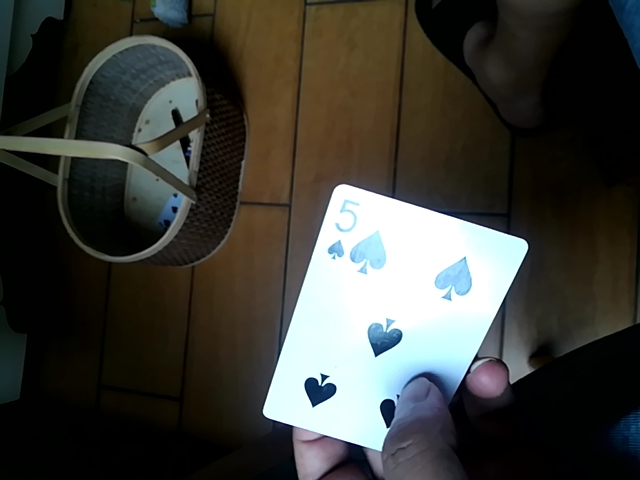ht 5: (261, 180, 529, 462)
